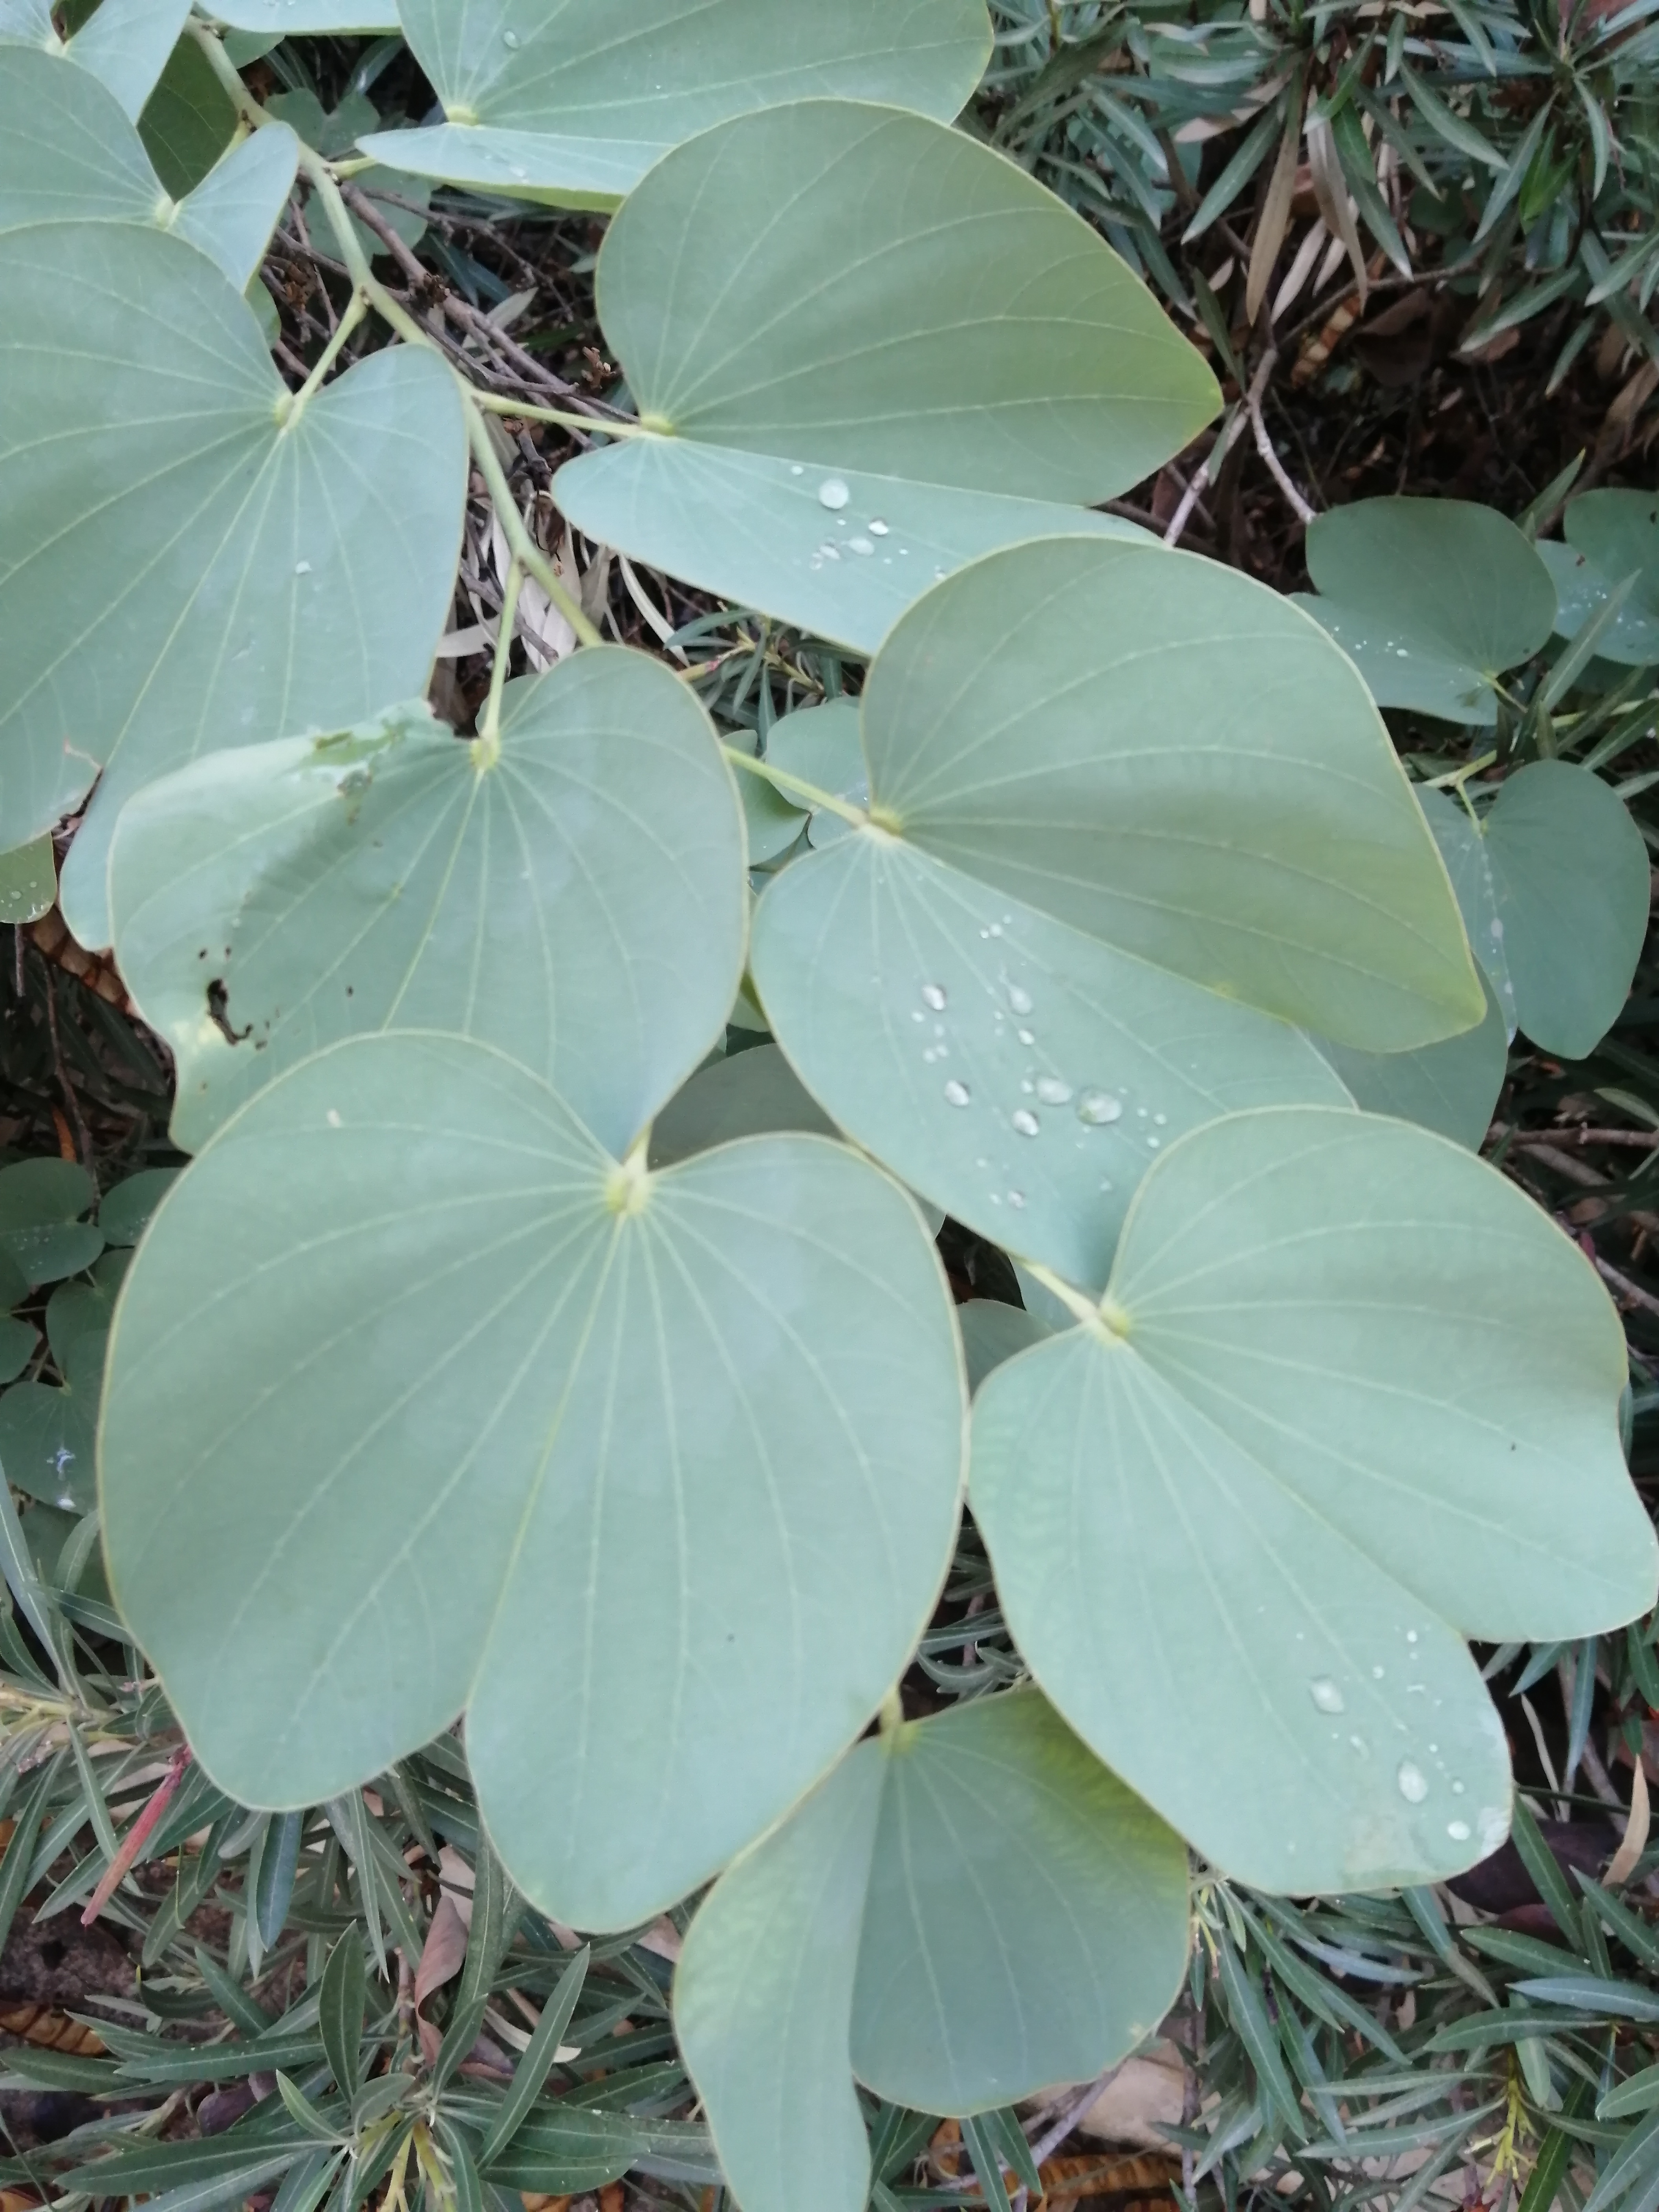healthy: (80, 1103, 904, 1813), (978, 1172, 1631, 1839), (798, 590, 1483, 1211), (509, 178, 1263, 625), (16, 284, 538, 698)
nothealthy: (89, 556, 809, 1165)
